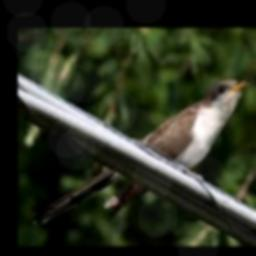Cuckoo: (34, 79, 253, 223)
